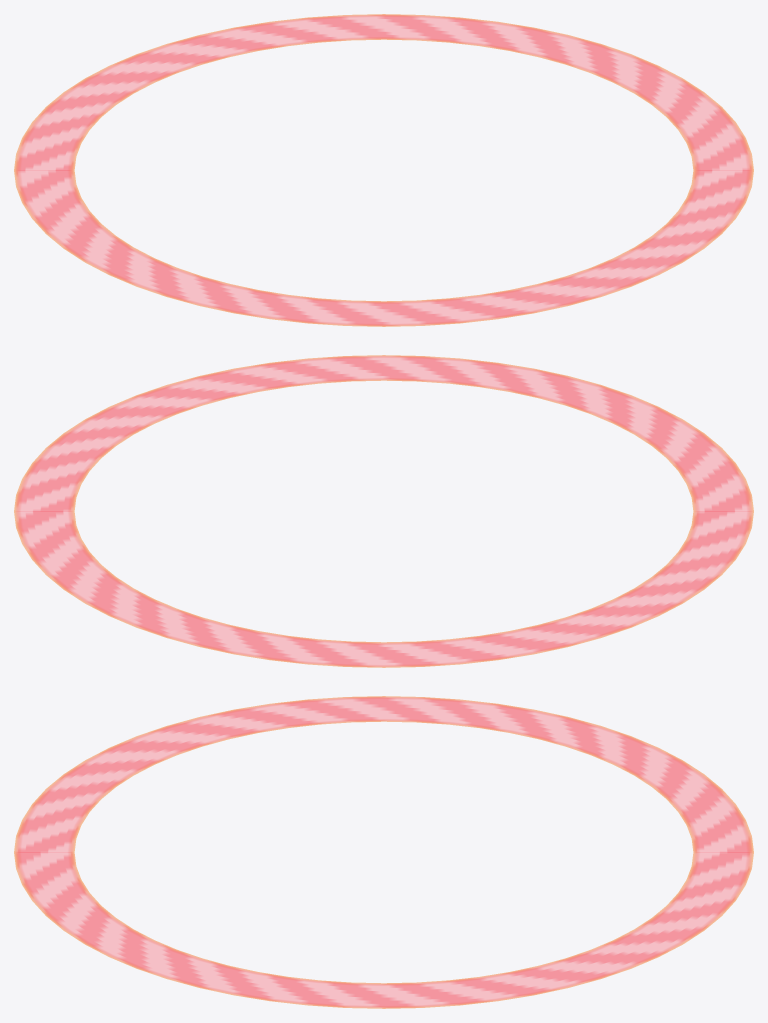
Rendered from fx_mring2_warn.glb.
3 renders of one model, top to bottom at view 1: azimuth 30°, elevation 25°; view 2: azimuth 150°, elevation 25°; view 3: azimuth 270°, elevation 25°, orthographic.
Parts seen in each view (by area): view 1: fx_warn; view 2: fx_warn; view 3: fx_warn.
Part boxes in pixels (x1,y1,x2,y2): fx_warn: [14, 14, 753, 326]; fx_warn: [14, 355, 753, 667]; fx_warn: [14, 696, 753, 1008].
Bounding box in the file's own units: 24.4 × 0 × 24.4.
1 material, 1 textured.
